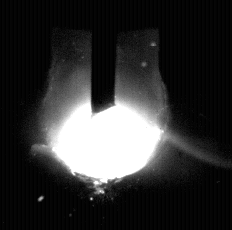arame: (91, 0, 117, 112)
poca: (41, 0, 169, 230)
